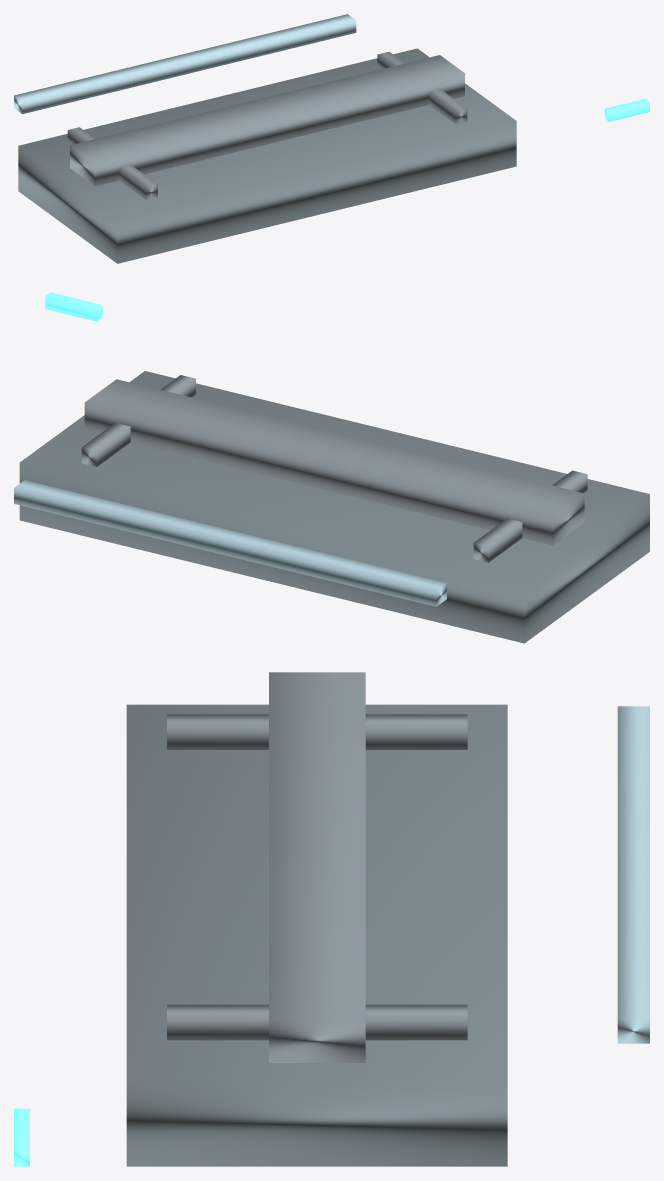
Rendered from ice-mine-service-deck-lod1.glb.
The picture shows the model from 3 angles, top to bottom: view 1: azimuth 30°, elevation 25°; view 2: azimuth 150°, elevation 25°; view 3: azimuth 270°, elevation 25°; orthographic projection. The views are drawn at different scales.
Visible parts, largest first — view 1: ice-mine-service-deck-main, ice-mine-service-deck-underbeam, ice-mine-service-deck-frost-strip, ice-mine-service-deck-grate-left, ice-mine-service-deck-grate-right, ice-mine-service-deck-marker; view 2: ice-mine-service-deck-main, ice-mine-service-deck-underbeam, ice-mine-service-deck-frost-strip, ice-mine-service-deck-grate-left, ice-mine-service-deck-grate-right, ice-mine-service-deck-marker; view 3: ice-mine-service-deck-main, ice-mine-service-deck-underbeam, ice-mine-service-deck-frost-strip, ice-mine-service-deck-grate-right, ice-mine-service-deck-grate-left, ice-mine-service-deck-marker.
Part boxes in pixels (x1=…): ice-mine-service-deck-main: x1=18, y1=48, x2=516, y2=263; ice-mine-service-deck-underbeam: x1=70, y1=55, x2=464, y2=186; ice-mine-service-deck-frost-strip: x1=14, y1=14, x2=356, y2=114; ice-mine-service-deck-grate-left: x1=67, y1=127, x2=157, y2=199; ice-mine-service-deck-grate-right: x1=377, y1=51, x2=467, y2=124; ice-mine-service-deck-marker: x1=604, y1=99, x2=649, y2=121; ice-mine-service-deck-main: x1=19, y1=371, x2=649, y2=643; ice-mine-service-deck-underbeam: x1=84, y1=379, x2=584, y2=545; ice-mine-service-deck-frost-strip: x1=14, y1=480, x2=446, y2=606; ice-mine-service-deck-grate-left: x1=473, y1=470, x2=587, y2=562; ice-mine-service-deck-grate-right: x1=81, y1=375, x2=195, y2=466; ice-mine-service-deck-marker: x1=45, y1=292, x2=102, y2=321; ice-mine-service-deck-main: x1=126, y1=704, x2=507, y2=1166; ice-mine-service-deck-underbeam: x1=269, y1=672, x2=365, y2=1062; ice-mine-service-deck-frost-strip: x1=617, y1=706, x2=649, y2=1043; ice-mine-service-deck-grate-right: x1=167, y1=1004, x2=467, y2=1040; ice-mine-service-deck-grate-left: x1=167, y1=714, x2=467, y2=749; ice-mine-service-deck-marker: x1=14, y1=1108, x2=29, y2=1166.
Size of the model in its own units: 4.16 by 0.55 by 2.37.
